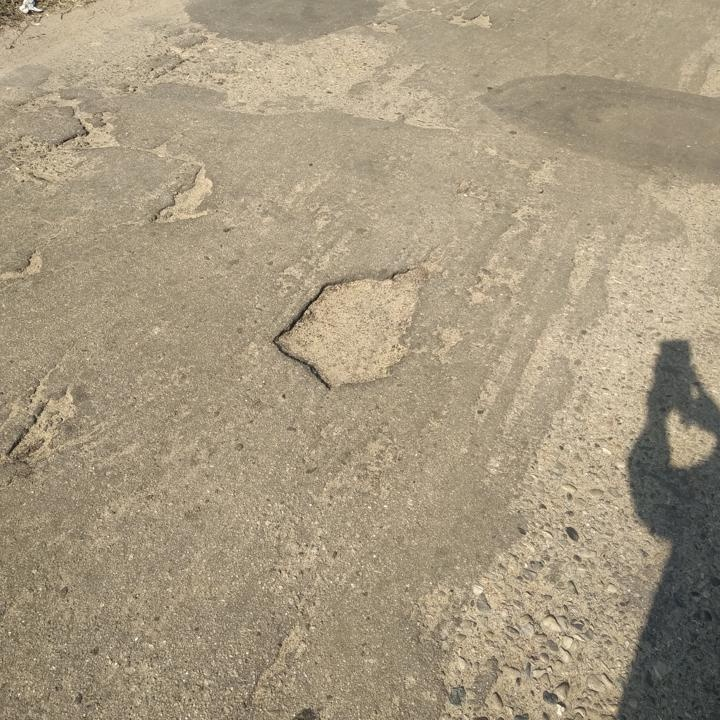pothole: (270, 259, 434, 393), (4, 384, 79, 462), (149, 162, 217, 227), (54, 110, 126, 156)
